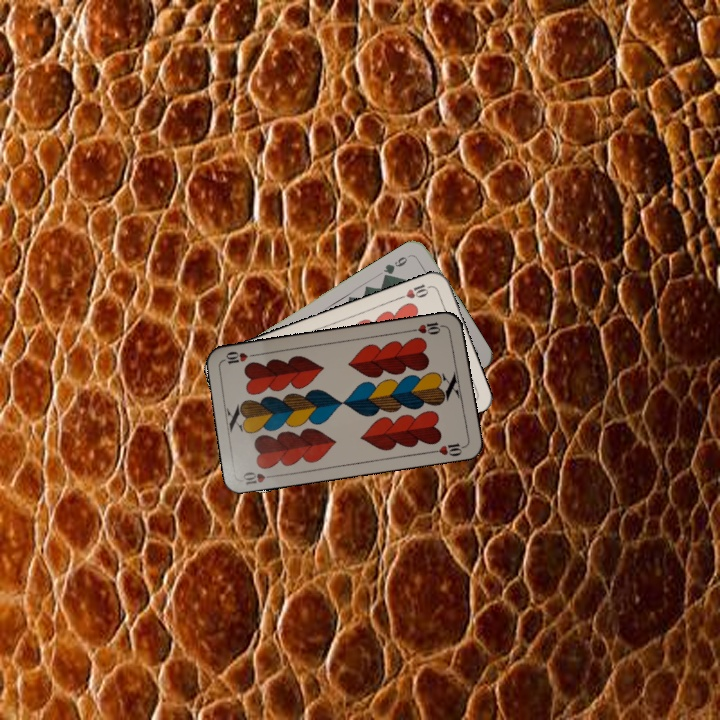G9: (379, 250, 414, 279)
H10: (395, 280, 434, 302), (407, 318, 448, 337), (239, 468, 279, 487)
